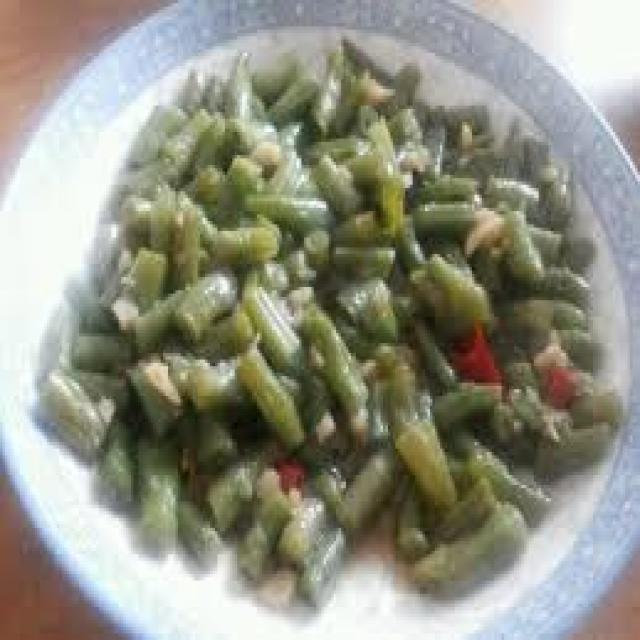organic waste: (32, 277, 615, 554), (84, 201, 593, 419), (124, 33, 583, 228), (410, 495, 524, 590), (203, 432, 274, 525), (134, 419, 180, 541), (34, 356, 96, 446), (237, 472, 289, 574), (331, 442, 398, 518), (94, 406, 136, 514), (175, 492, 228, 574), (294, 514, 339, 604), (408, 422, 452, 512), (267, 50, 326, 116), (430, 475, 492, 534), (277, 492, 321, 570), (449, 317, 496, 376), (217, 43, 252, 119), (529, 162, 571, 224), (306, 63, 341, 132), (247, 43, 292, 96), (516, 122, 548, 178), (554, 221, 593, 264), (415, 102, 440, 168), (440, 102, 482, 139), (541, 360, 573, 402), (383, 56, 413, 99), (494, 109, 526, 145), (338, 29, 371, 62), (454, 112, 474, 162), (386, 99, 415, 132), (277, 452, 304, 485)
